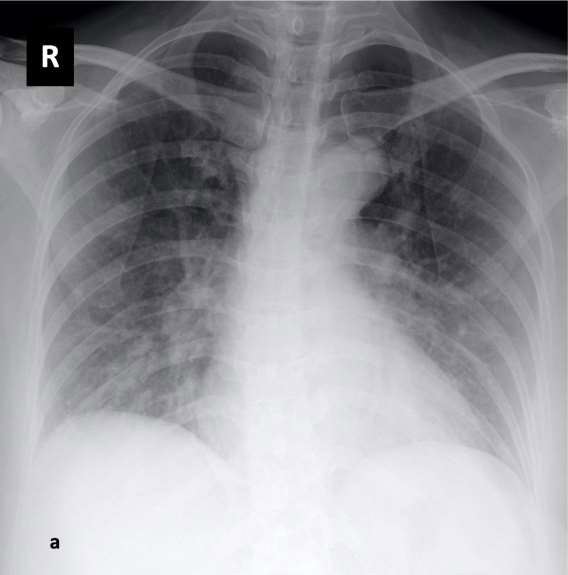Severe: (41, 28, 268, 429), (337, 43, 531, 455)
